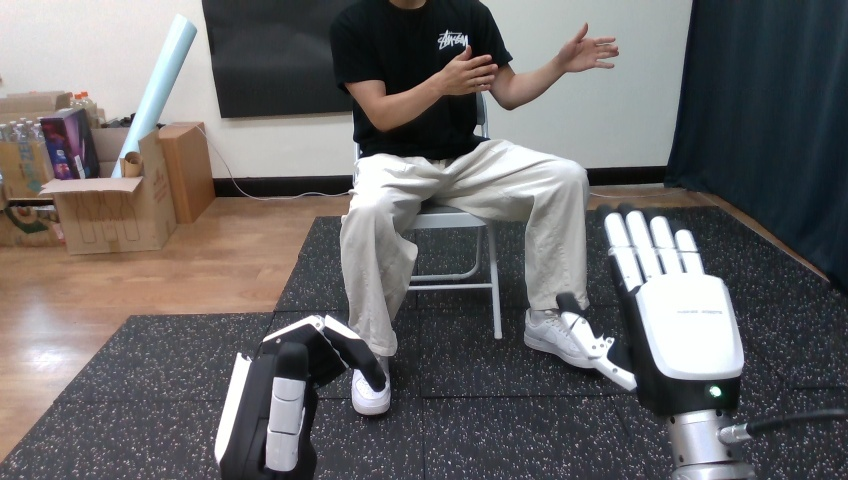left robot hand: (430, 45, 498, 95), (555, 23, 618, 73)
